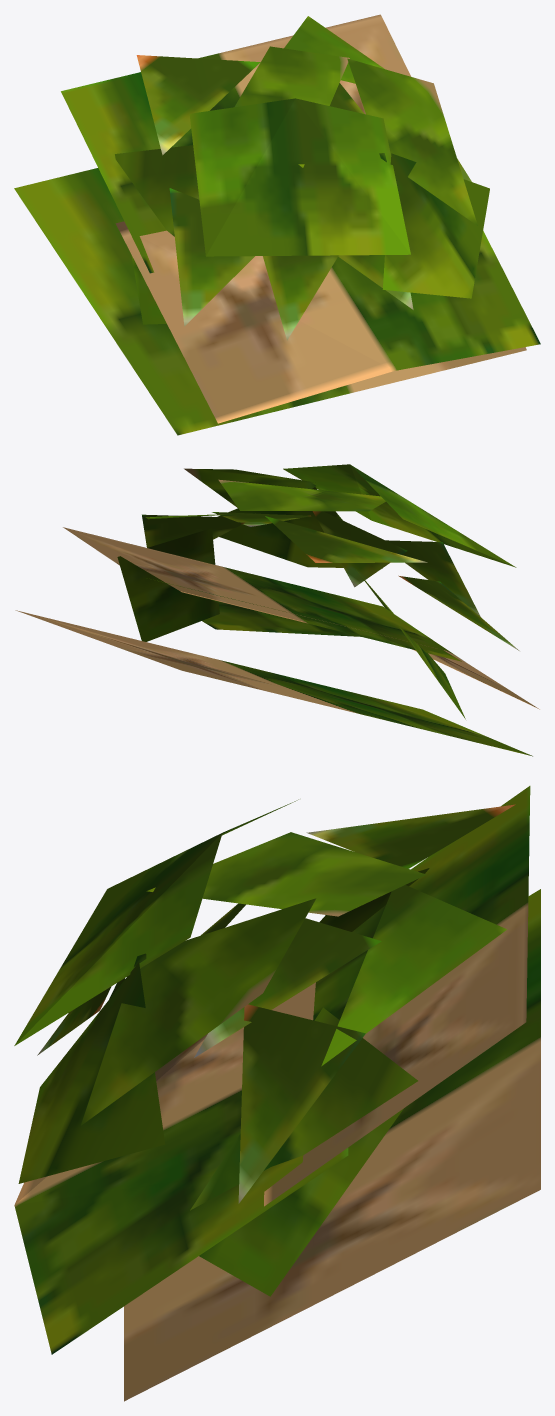
The model's file is fg_bushC_2_bl.dae.
3 renders of one model, top to bottom at view 1: azimuth 30°, elevation 25°; view 2: azimuth 150°, elevation 25°; view 3: azimuth 270°, elevation 25°, orthographic. The views are drawn at different scales.
Parts seen in each view (by area): view 1: fg_bushC_2_bl; view 2: fg_bushC_2_bl; view 3: fg_bushC_2_bl.
Part boxes in pixels (bbox=[...]): fg_bushC_2_bl: bbox=[14, 14, 540, 435]; fg_bushC_2_bl: bbox=[15, 464, 539, 756]; fg_bushC_2_bl: bbox=[14, 786, 540, 1401].
Bounding box in the file's own units: 47.83 × 31.21 × 35.4.
Materials: 1 (1 with a texture image).
